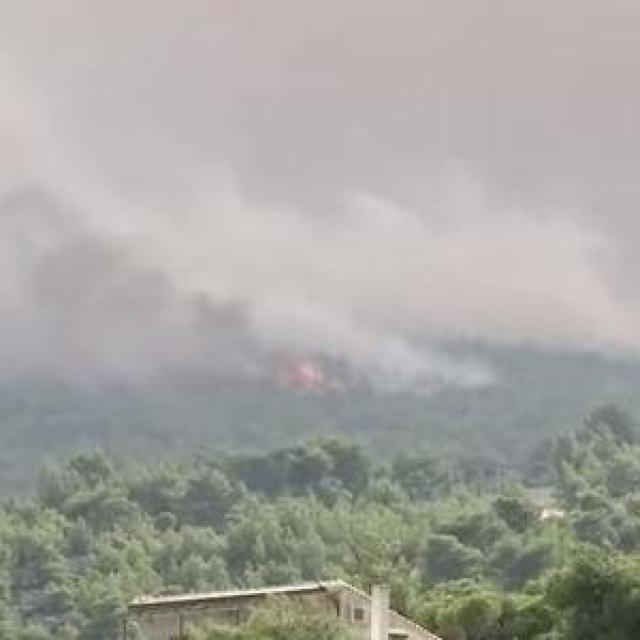Fire: (291, 362, 336, 390)
Smoke: (0, 16, 640, 336)
